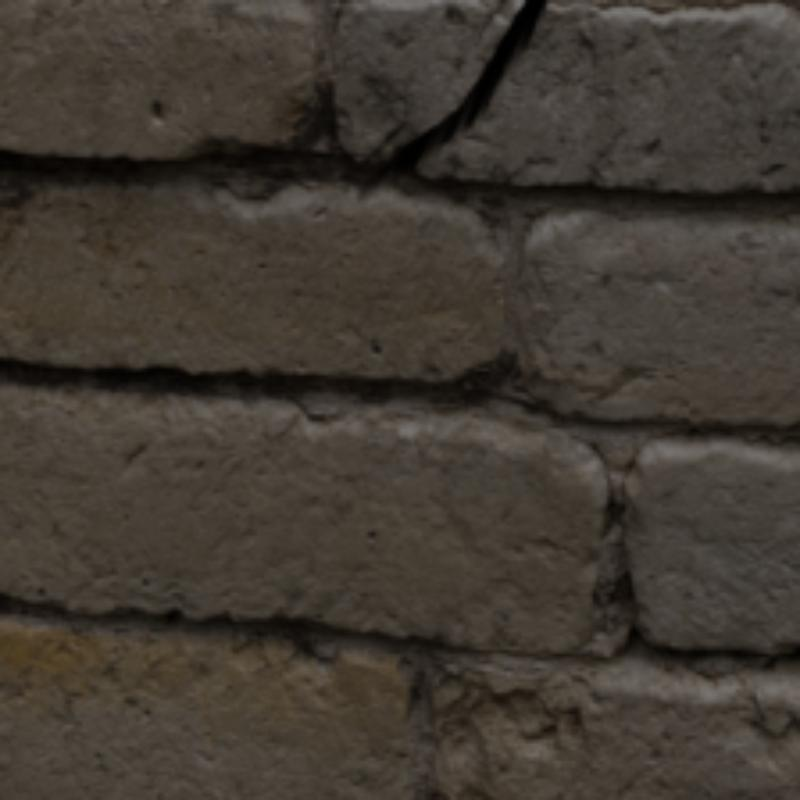pothole: (354, 0, 543, 193)
